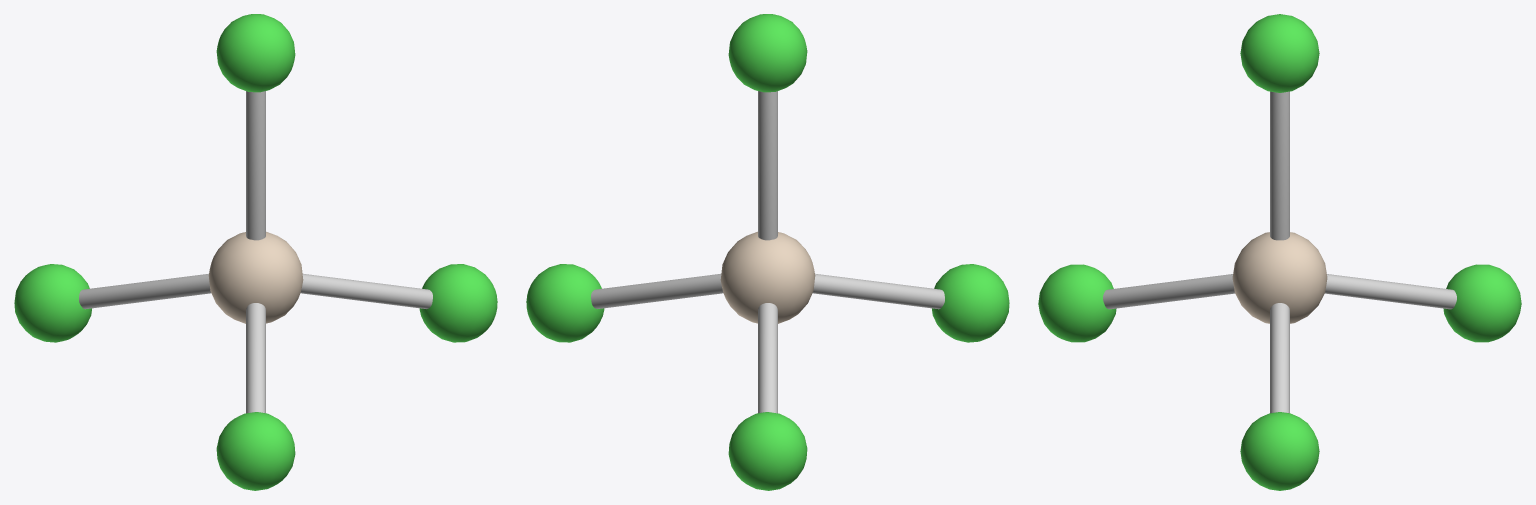
File: SICL4.fbx
The picture shows the model from 3 angles, left to right: view 1: azimuth 30°, elevation 25°; view 2: azimuth 150°, elevation 25°; view 3: azimuth 270°, elevation 25°; orthographic projection.
Parts seen in each view (by area): view 1: Atom_0_SI, Atom_3_CL, Atom_1_CL, Atom_2_CL, Atom_4_CL, Bond, Bond_003, Bond_001, Bond_002; view 2: Atom_0_SI, Atom_4_CL, Atom_1_CL, Atom_2_CL, Atom_3_CL, Bond, Bond_002, Bond_001, Bond_003; view 3: Atom_0_SI, Atom_1_CL, Atom_2_CL, Atom_4_CL, Atom_3_CL, Bond, Bond_003, Bond_002, Bond_001.
Part boxes in pixels (x1,y1,x2,y2): Atom_0_SI: [208, 231, 303, 323]; Atom_3_CL: [216, 412, 295, 490]; Atom_1_CL: [216, 14, 295, 92]; Atom_2_CL: [419, 264, 497, 342]; Atom_4_CL: [14, 264, 91, 342]; Bond: [246, 91, 265, 240]; Bond_003: [79, 273, 210, 309]; Bond_001: [300, 273, 432, 308]; Bond_002: [246, 303, 265, 413]; Atom_0_SI: [720, 231, 815, 323]; Atom_4_CL: [728, 412, 807, 490]; Atom_1_CL: [728, 14, 807, 92]; Atom_2_CL: [526, 264, 604, 342]; Atom_3_CL: [932, 264, 1009, 342]; Bond: [758, 91, 777, 240]; Bond_002: [813, 273, 944, 309]; Bond_001: [591, 273, 723, 308]; Bond_003: [758, 303, 777, 413]; Atom_0_SI: [1232, 232, 1327, 323]; Atom_1_CL: [1240, 14, 1319, 92]; Atom_2_CL: [1240, 412, 1319, 490]; Atom_4_CL: [1443, 264, 1521, 342]; Atom_3_CL: [1038, 264, 1116, 342]; Bond: [1270, 91, 1289, 240]; Bond_003: [1325, 274, 1456, 309]; Bond_002: [1103, 274, 1234, 309]; Bond_001: [1270, 303, 1289, 413].
Size of the model in its own units: 3.79 by 3.62 by 4.27.
